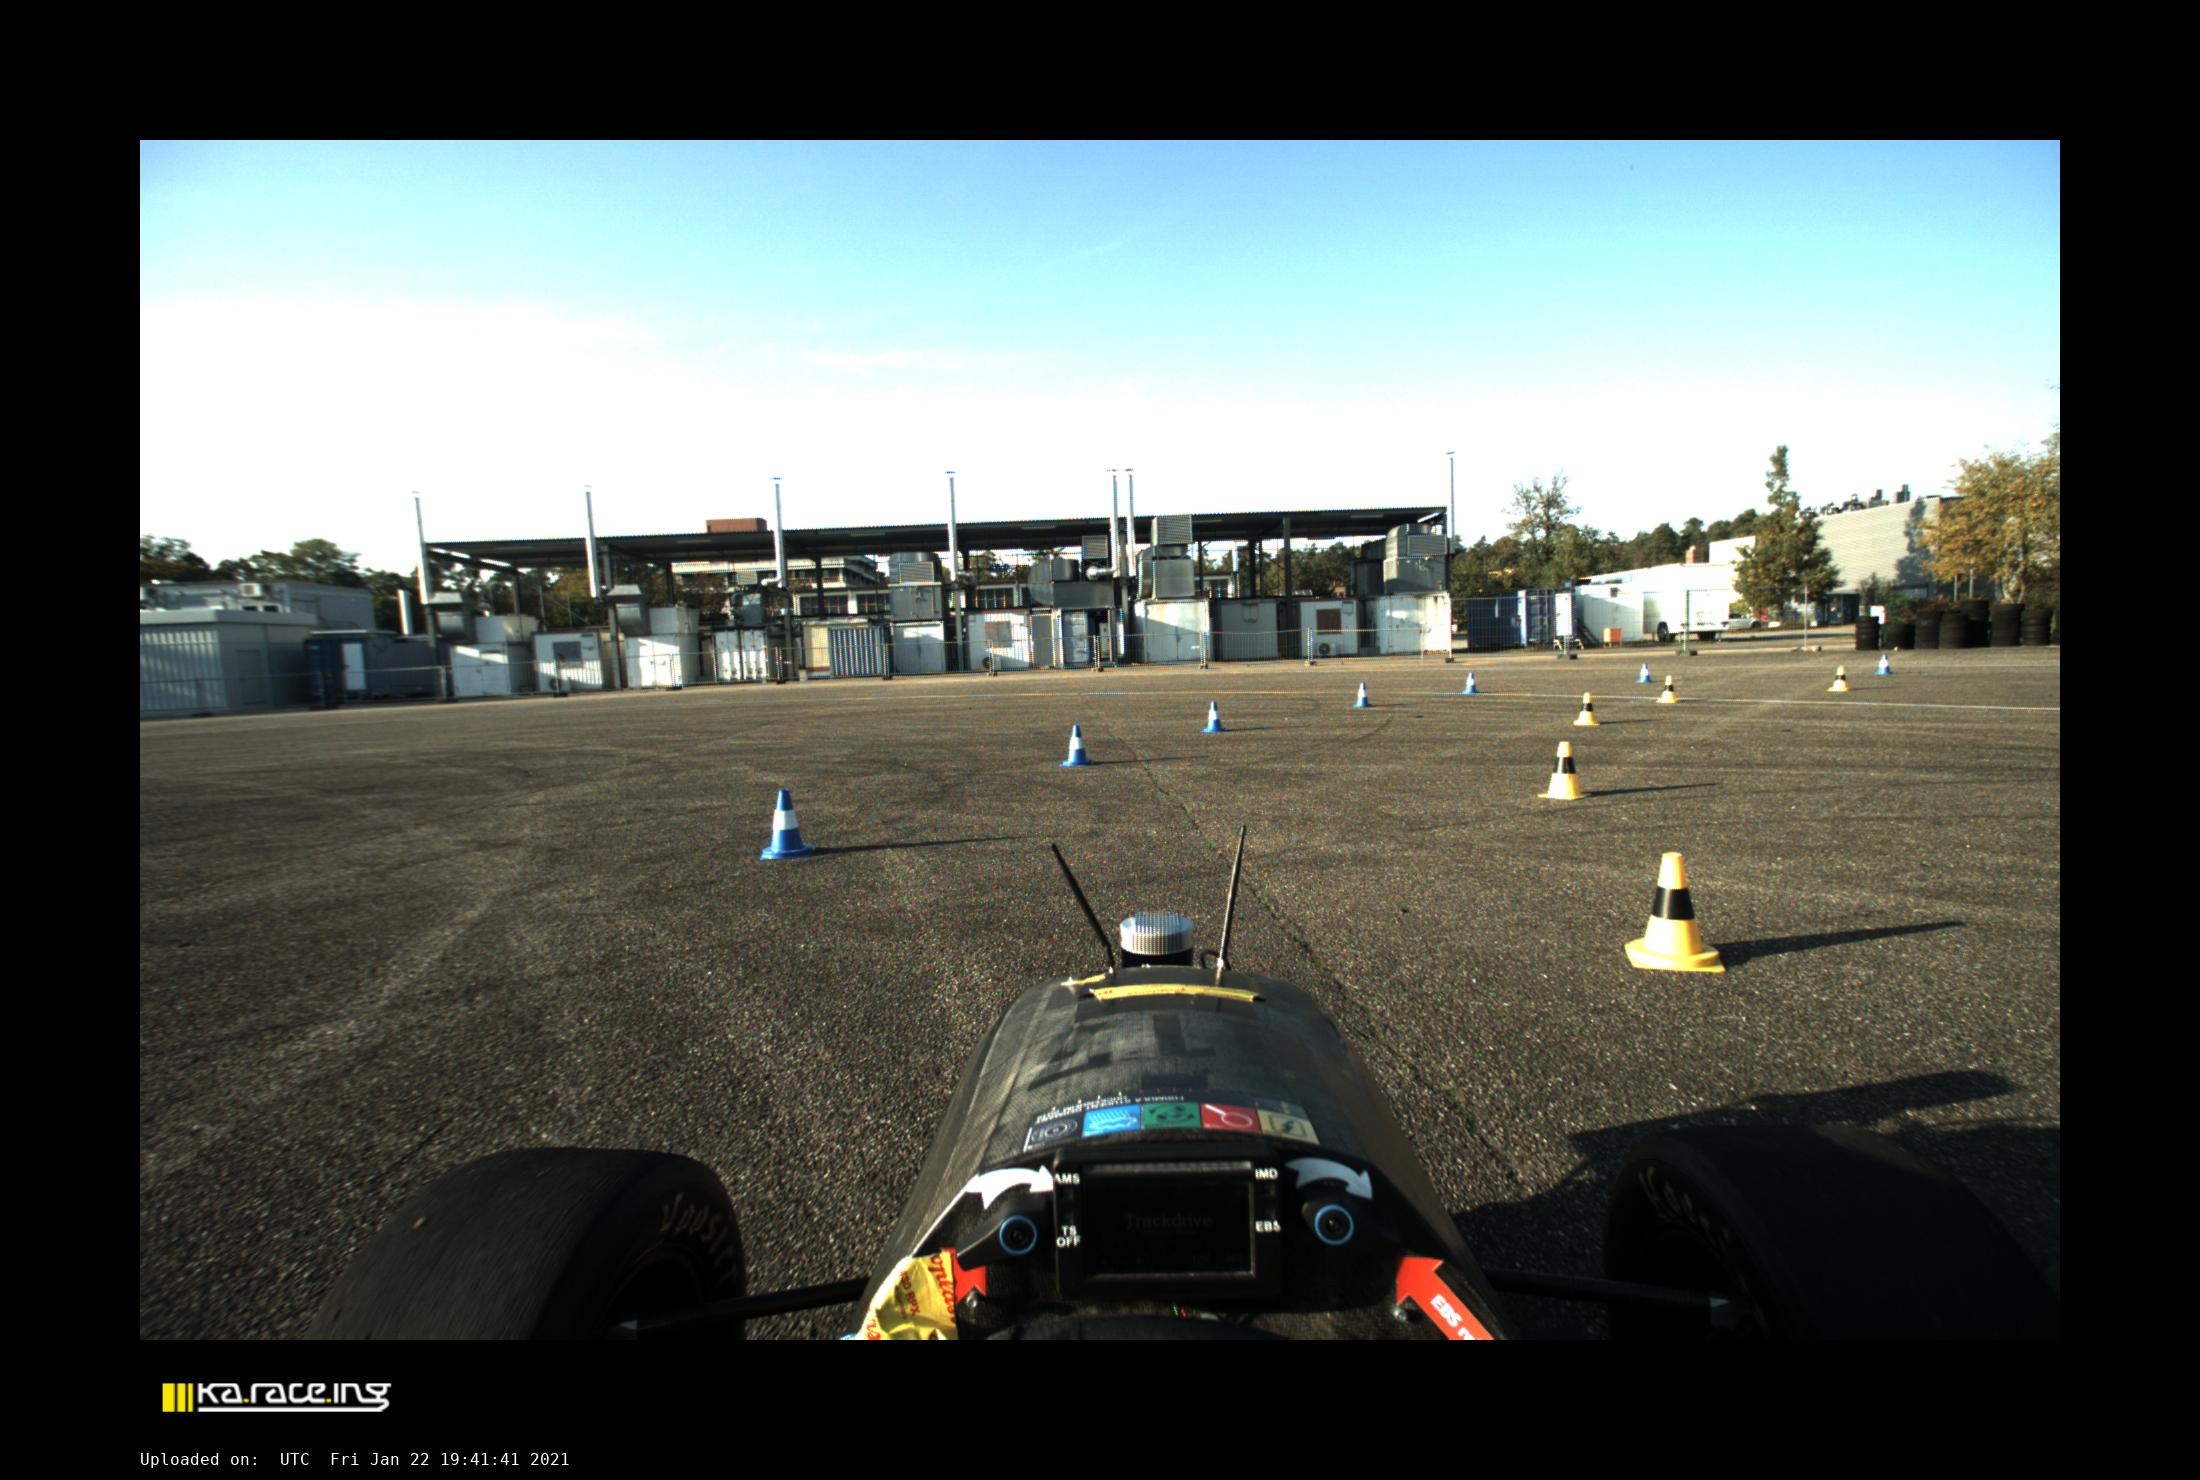blue_cone: (760, 790, 814, 861), (1060, 725, 1093, 765), (1201, 700, 1226, 732), (1353, 682, 1374, 709), (1462, 672, 1480, 694), (1875, 654, 1893, 674), (1637, 662, 1655, 682)
yellow_cone: (1627, 852, 1726, 973), (1539, 742, 1591, 799), (1572, 692, 1600, 725), (1657, 676, 1676, 704), (1827, 666, 1848, 690)
